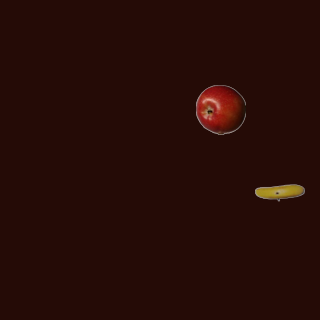Apple Braeburn: (195, 84, 245, 134)
Banana: (254, 167, 304, 217)
